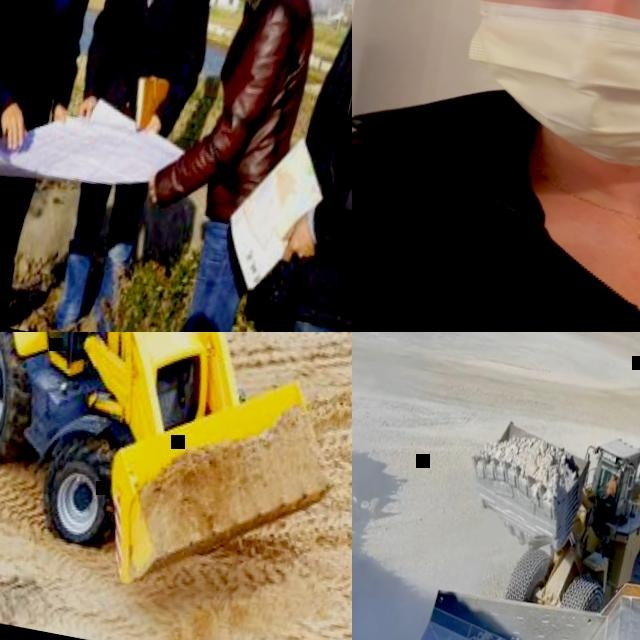Mask: (433, 0, 640, 178)
NO-Safety Vest: (352, 102, 640, 332), (204, 0, 321, 219), (289, 0, 352, 298), (95, 0, 207, 124), (0, 0, 90, 130), (605, 481, 617, 498)
Person: (352, 0, 640, 332), (117, 0, 341, 332), (30, 0, 247, 332), (0, 0, 119, 331), (252, 0, 352, 332), (603, 474, 619, 498)
machinery: (0, 332, 352, 624), (447, 404, 640, 629), (352, 529, 640, 640)
